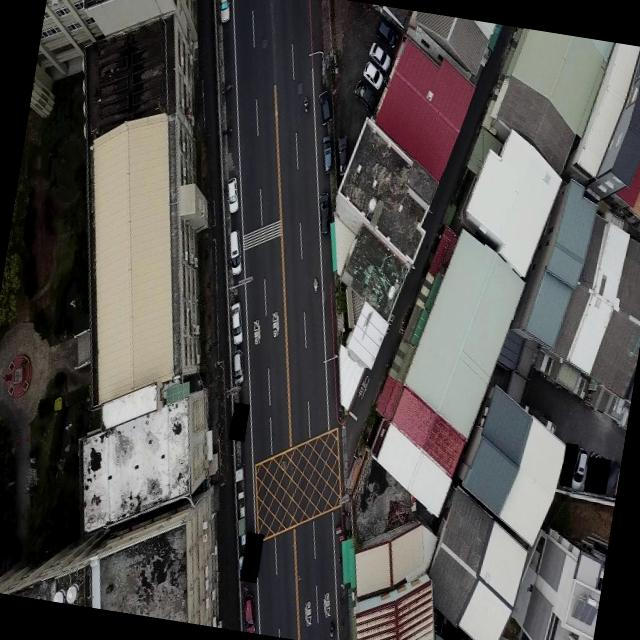car: (224, 229, 248, 277), (224, 301, 248, 347), (237, 590, 262, 634), (348, 74, 378, 110), (359, 54, 388, 88), (368, 38, 397, 70), (314, 191, 334, 234), (314, 89, 336, 127), (376, 16, 402, 48), (222, 176, 243, 215), (332, 134, 351, 177), (228, 348, 248, 387), (317, 134, 336, 174), (214, 0, 235, 24)
